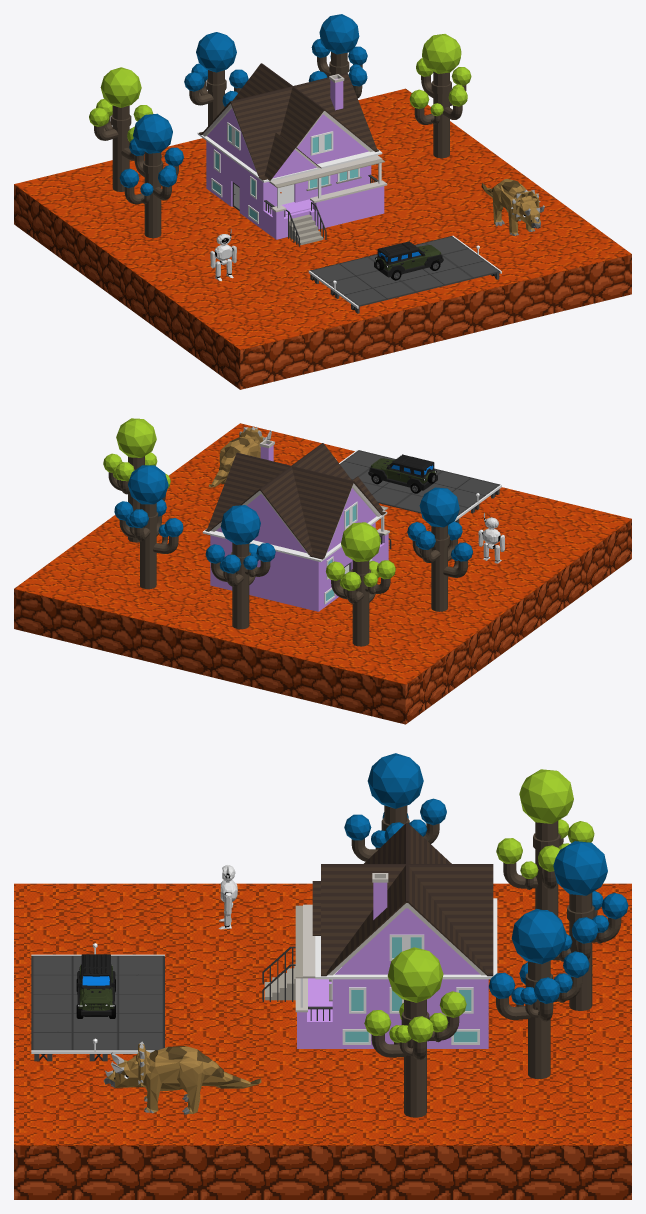
3 renders of one model, top to bottom at view 1: azimuth 30°, elevation 25°; view 2: azimuth 150°, elevation 25°; view 3: azimuth 270°, elevation 25°, orthographic. The views are drawn at different scales.
Visible parts, largest first — view 1: Cube.001, Cube.391, ANIMAL_Triceratops, VEHICLES_JEEP, OBJRANDOM_PLATZEEBOT; view 2: Cube.001, Cube.391, VEHICLES_JEEP, ANIMAL_Triceratops, OBJRANDOM_PLATZEEBOT; view 3: Cube.001, Cube.391, ANIMAL_Triceratops, VEHICLES_JEEP, OBJRANDOM_PLATZEEBOT.
Boxes of the visible parts, x1=… form: Cube.001: x1=14, y1=14, x2=631, y2=389; Cube.391: x1=197, y1=63, x2=387, y2=246; ANIMAL_Triceratops: x1=481, y1=179, x2=544, y2=235; VEHICLES_JEEP: x1=374, y1=241, x2=443, y2=280; OBJRANDOM_PLATZEEBOT: x1=210, y1=229, x2=236, y2=281; Cube.001: x1=14, y1=418, x2=631, y2=724; Cube.391: x1=202, y1=439, x2=391, y2=611; VEHICLES_JEEP: x1=368, y1=454, x2=437, y2=493; ANIMAL_Triceratops: x1=208, y1=427, x2=271, y2=487; OBJRANDOM_PLATZEEBOT: x1=478, y1=513, x2=504, y2=563; Cube.001: x1=14, y1=753, x2=631, y2=1199; Cube.391: x1=262, y1=823, x2=497, y2=1048; ANIMAL_Triceratops: x1=103, y1=1041, x2=261, y2=1114; VEHICLES_JEEP: x1=76, y1=954, x2=115, y2=1018; OBJRANDOM_PLATZEEBOT: x1=218, y1=865, x2=237, y2=929.
Size of the model in its own units: 4000 by 1642 by 4000.
Materials: 38 (4 with a texture image).
